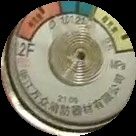green: (59, 2, 97, 21)
red: (17, 2, 63, 42)
yellow: (94, 7, 134, 53)
